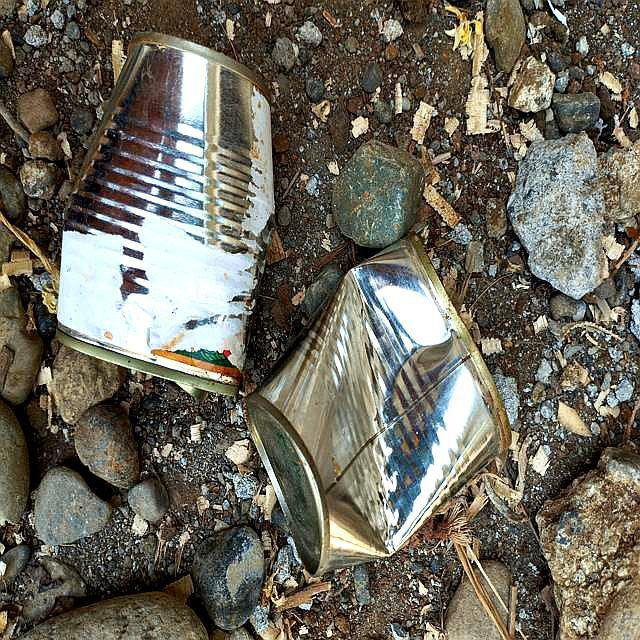Non-biodegradable: (232, 225, 529, 612), (24, 27, 288, 408)
